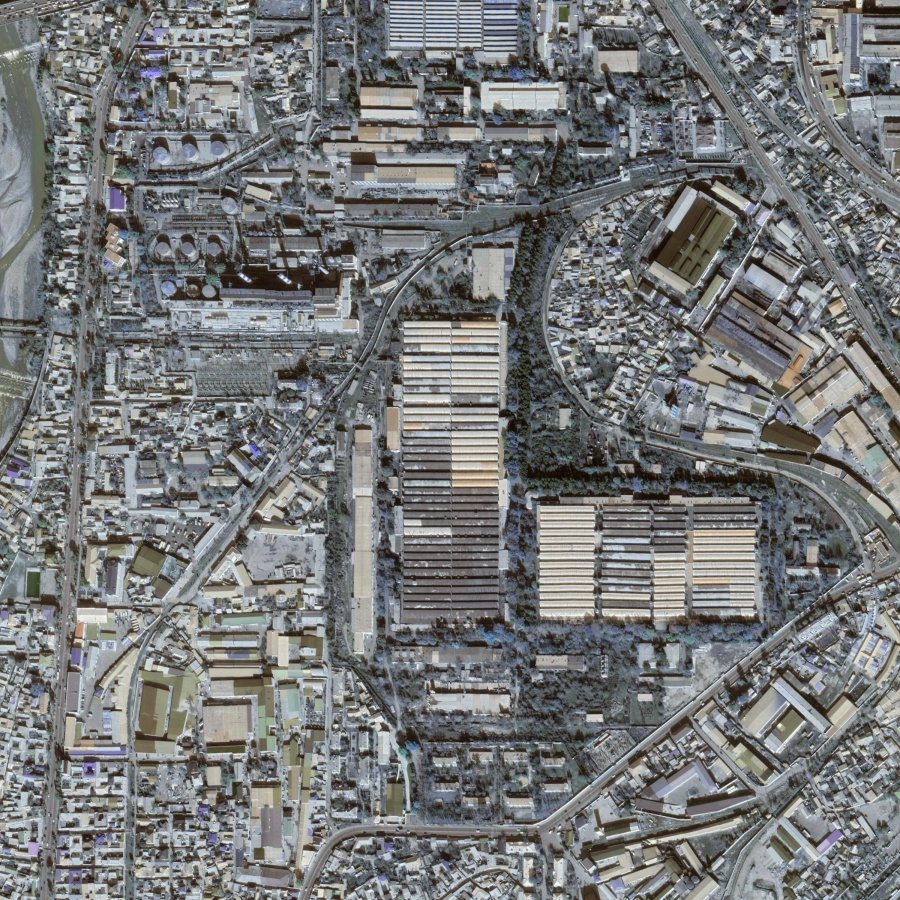PowerPlant: (143, 187, 364, 398)
